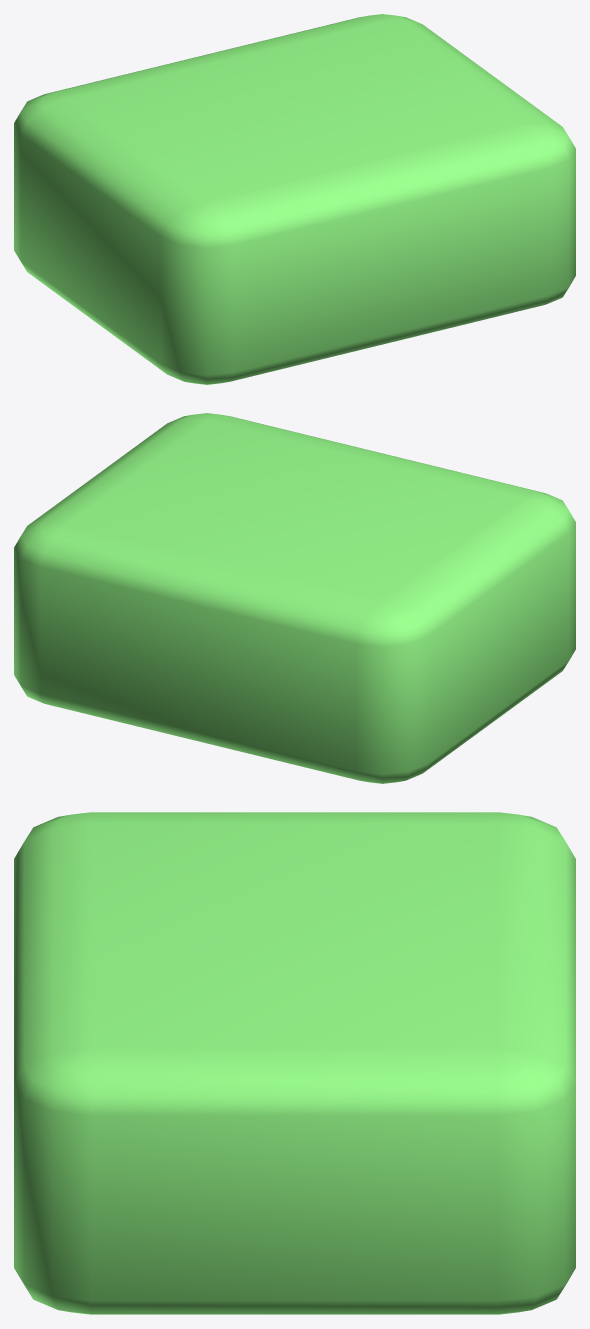
The model's file is LCube.FBX.
3 renders of one model, top to bottom at view 1: azimuth 30°, elevation 25°; view 2: azimuth 150°, elevation 25°; view 3: azimuth 270°, elevation 25°, orthographic. The views are drawn at different scales.
Visible parts, largest first — view 1: ChamferBox001; view 2: ChamferBox001; view 3: ChamferBox001.
Boxes of the visible parts, <box> form: ChamferBox001: <box>14,14,575,384</box>; ChamferBox001: <box>14,413,575,783</box>; ChamferBox001: <box>14,812,575,1314</box>.
Bounding box in the file's own units: 4.78 × 1.96 × 3.92.
